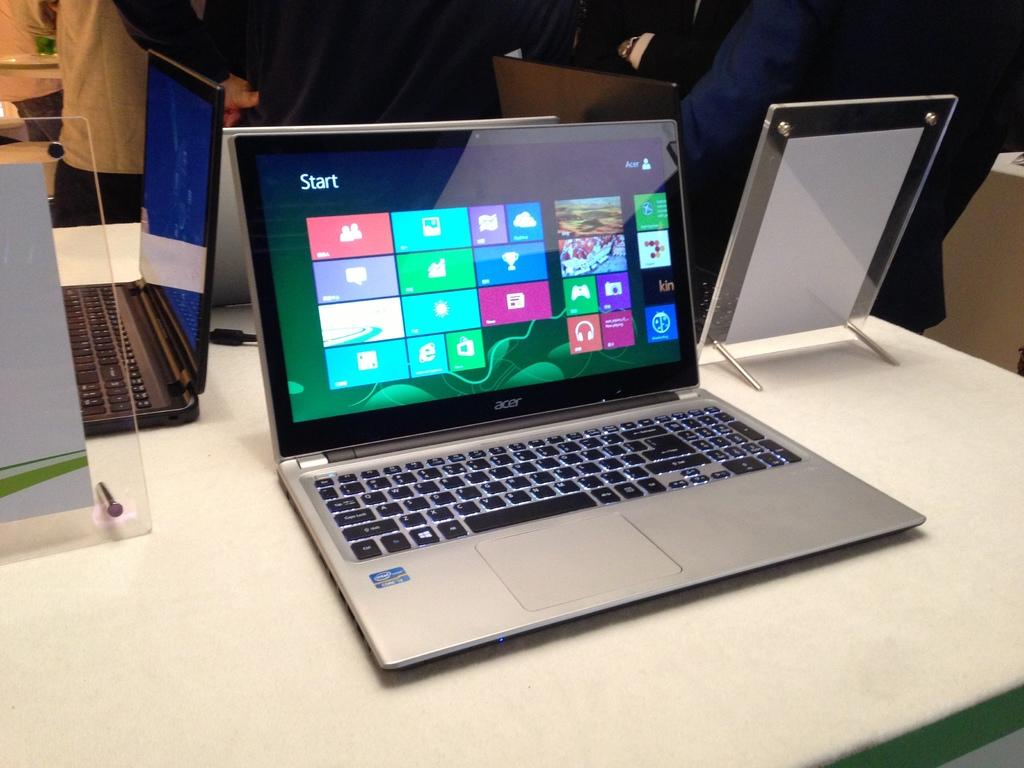Computer-keyboard: (314, 401, 800, 563), (62, 279, 163, 420), (691, 276, 747, 341)
